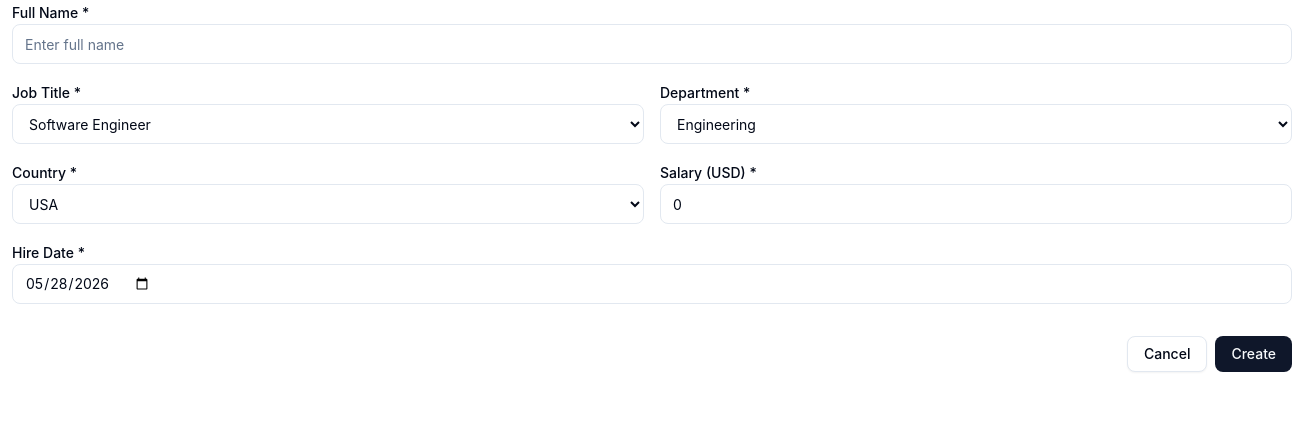
Test case: EmployeeForm › should show validation error when name is empty
Click the button "Create". click: (1254, 354)
box: 1215,336 -> 1292,372
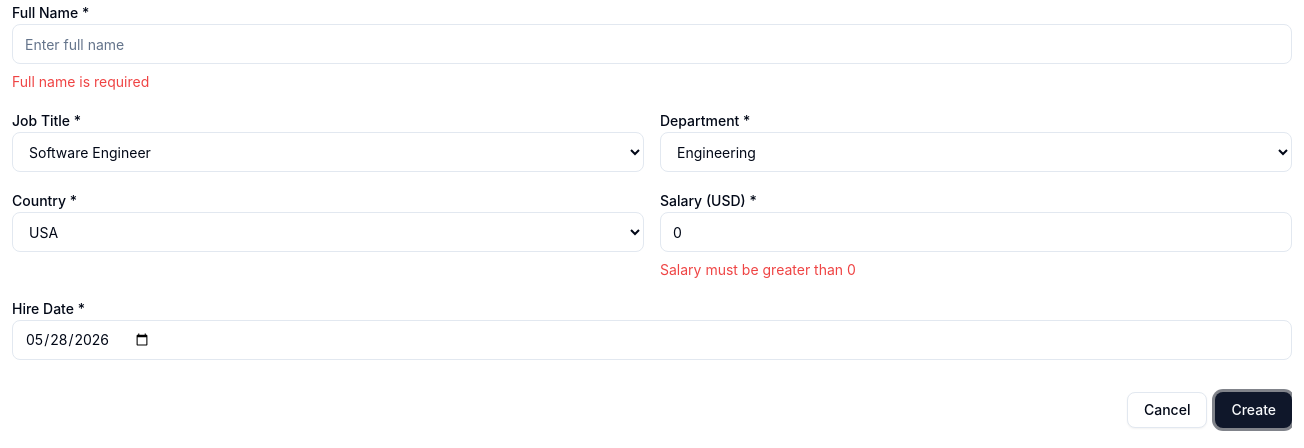
Check: the text "Full name is required" is shown, box 12,73 -> 149,90
